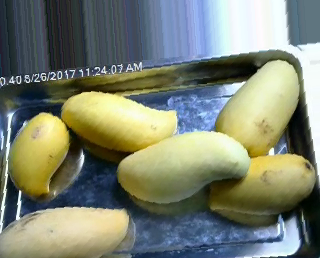Mango: (115, 129, 251, 204), (215, 57, 300, 157), (205, 150, 317, 218), (62, 90, 178, 154), (1, 206, 133, 257), (5, 110, 69, 199)
